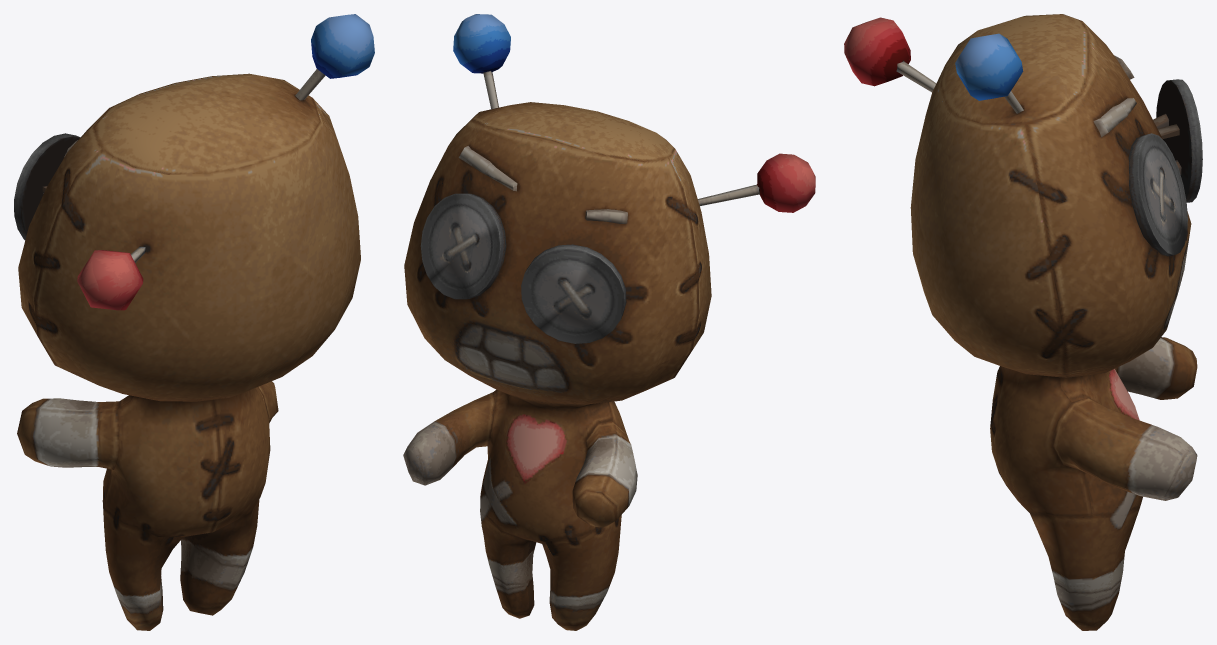
The model's file is plushhexdoll.fbx.
3 views of the same model, side by side, from view 1: azimuth 30°, elevation 25°; view 2: azimuth 150°, elevation 25°; view 3: azimuth 270°, elevation 25° (orthographic). The views are drawn at different scales.
Visible parts, largest first — view 1: 30_body_0_0_0; view 2: 30_body_0_0_0; view 3: 30_body_0_0_0.
Boxes of the visible parts, x1=… form: 30_body_0_0_0: x1=14, y1=14, x2=374, y2=630; 30_body_0_0_0: x1=403, y1=14, x2=815, y2=630; 30_body_0_0_0: x1=844, y1=14, x2=1202, y2=630.
Size of the model in its own units: 0.2942 by 0.4888 by 0.2483.
